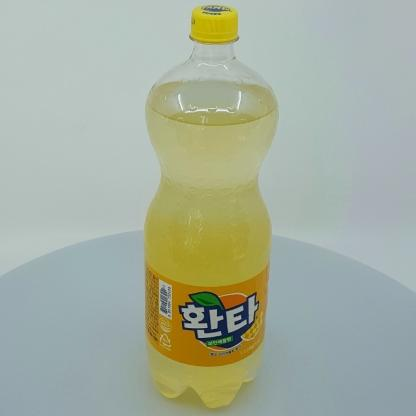--------1-5L: (143, 3, 278, 409)
